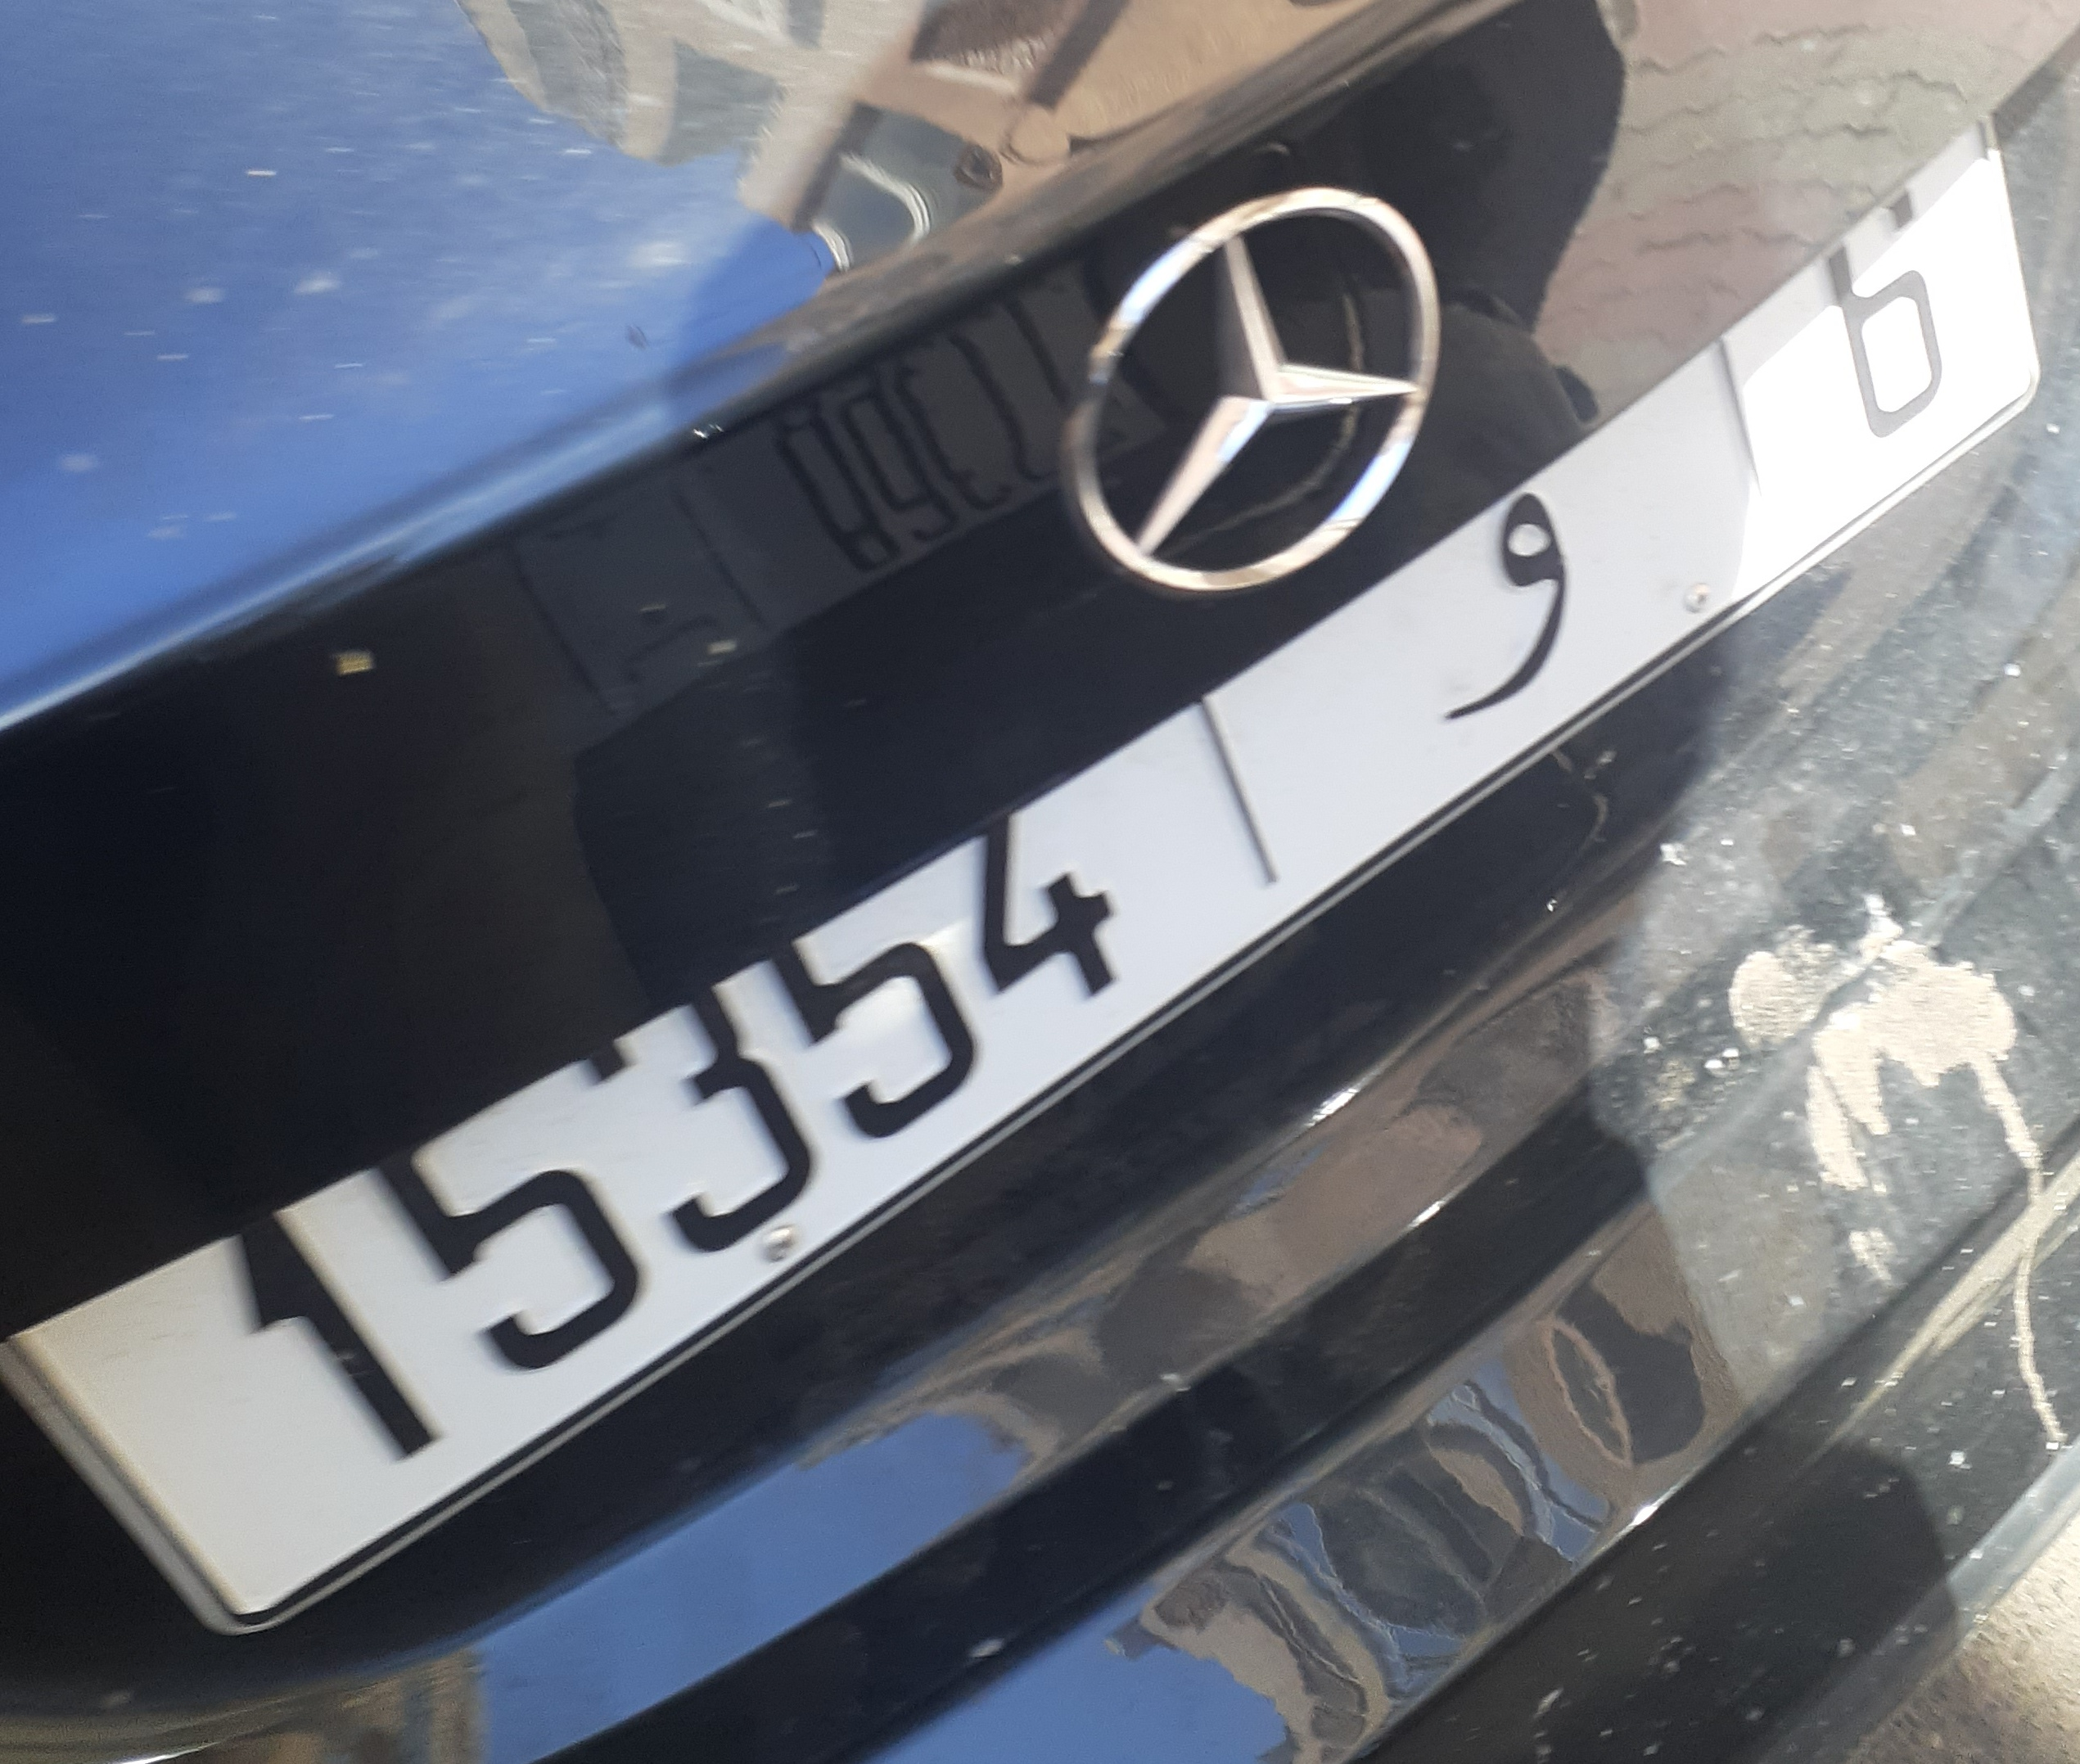1: (190, 1209, 467, 1512)
3: (596, 940, 839, 1265)
4: (950, 778, 1168, 1017)
5: (357, 1085, 660, 1392), (767, 859, 976, 1144)
6: (1792, 192, 1967, 449)
waw: (1446, 466, 1595, 730)
